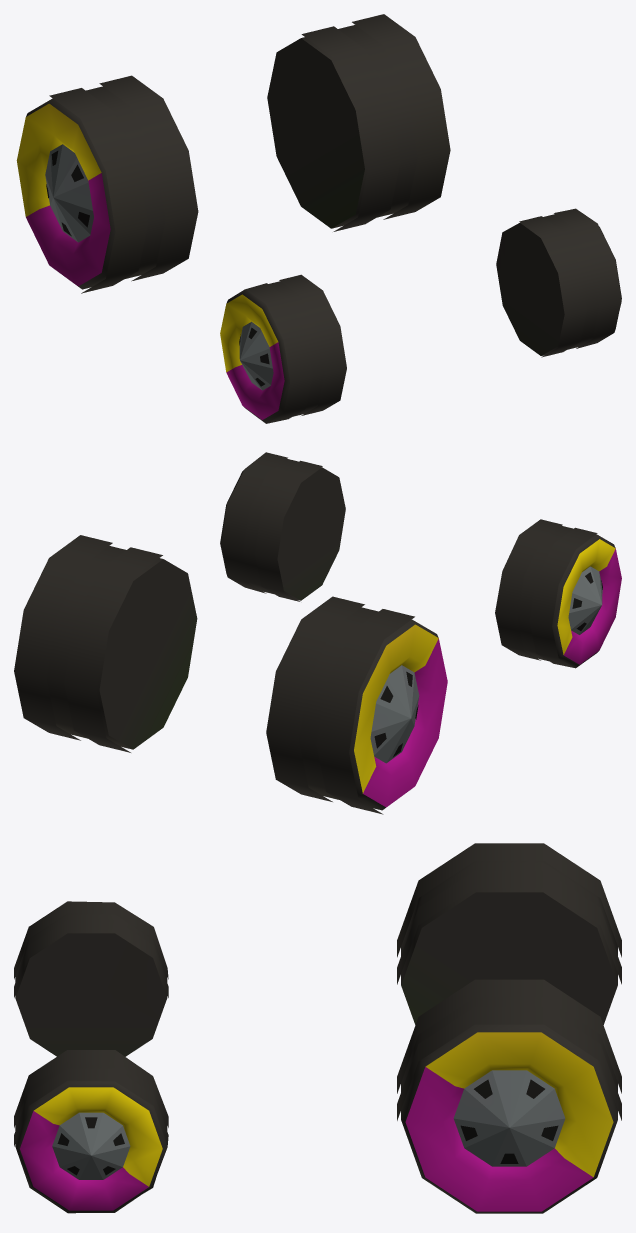
Rendered from SpeedWheel02R02.gltf.
3 views of the same model, one above another, from view 1: azimuth 30°, elevation 25°; view 2: azimuth 150°, elevation 25°; view 3: azimuth 270°, elevation 25° (orthographic). The views are drawn at different scales.
Visible parts, largest first — view 1: SpeedWheel02R02; view 2: SpeedWheel02R02; view 3: SpeedWheel02R02.
Boxes of the visible parts, bbox=[...] form: SpeedWheel02R02: bbox=[16, 14, 621, 423]; SpeedWheel02R02: bbox=[14, 452, 621, 814]; SpeedWheel02R02: bbox=[14, 843, 621, 1213].
Size of the model in its own units: 0.2095 by 0.0967 by 0.2748.
